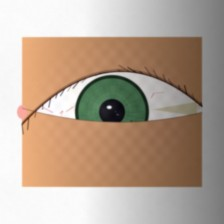pterygium_lesion: (147, 90, 203, 134)
